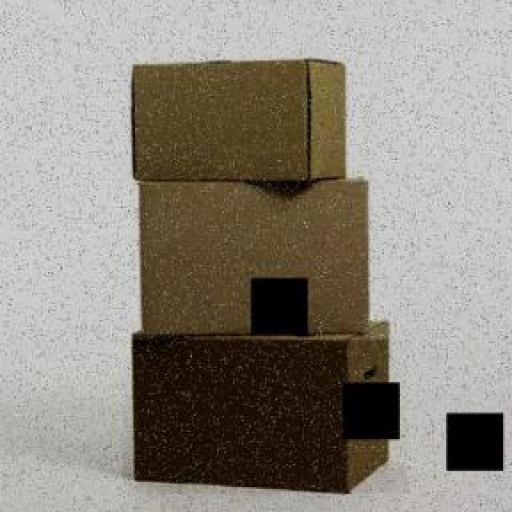box: (111, 186, 415, 338), (123, 340, 407, 494), (120, 48, 358, 185)
